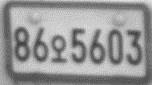0: (108, 28, 124, 65)
3: (125, 28, 143, 65)
5: (70, 27, 87, 64)
6: (87, 28, 106, 65), (32, 26, 50, 62)
8: (13, 26, 30, 62)
오: (50, 34, 68, 64)
